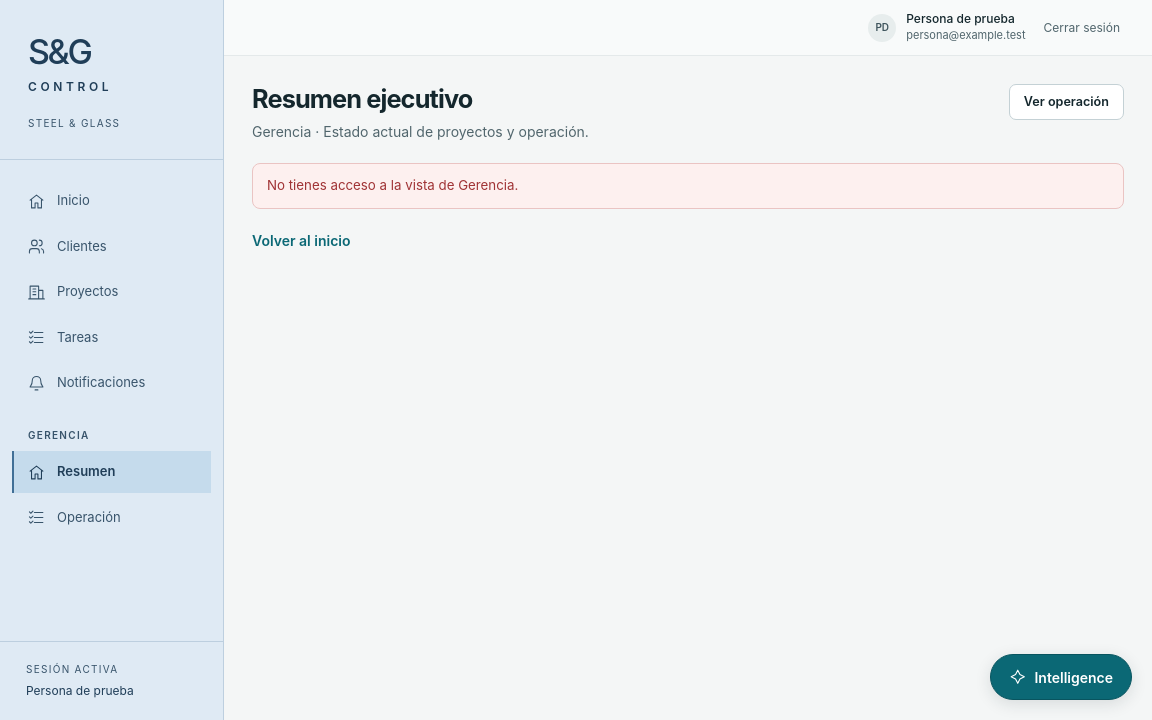
Management and Intelligence integration › keeps the real session and the other experience after management HTTP 403
Check: the message shows "No tienes acceso", box [267,177,518,193]
Click the button with aria-label "Abrir SnG Intelligence" at (1061, 677), box [990,654,1132,700]
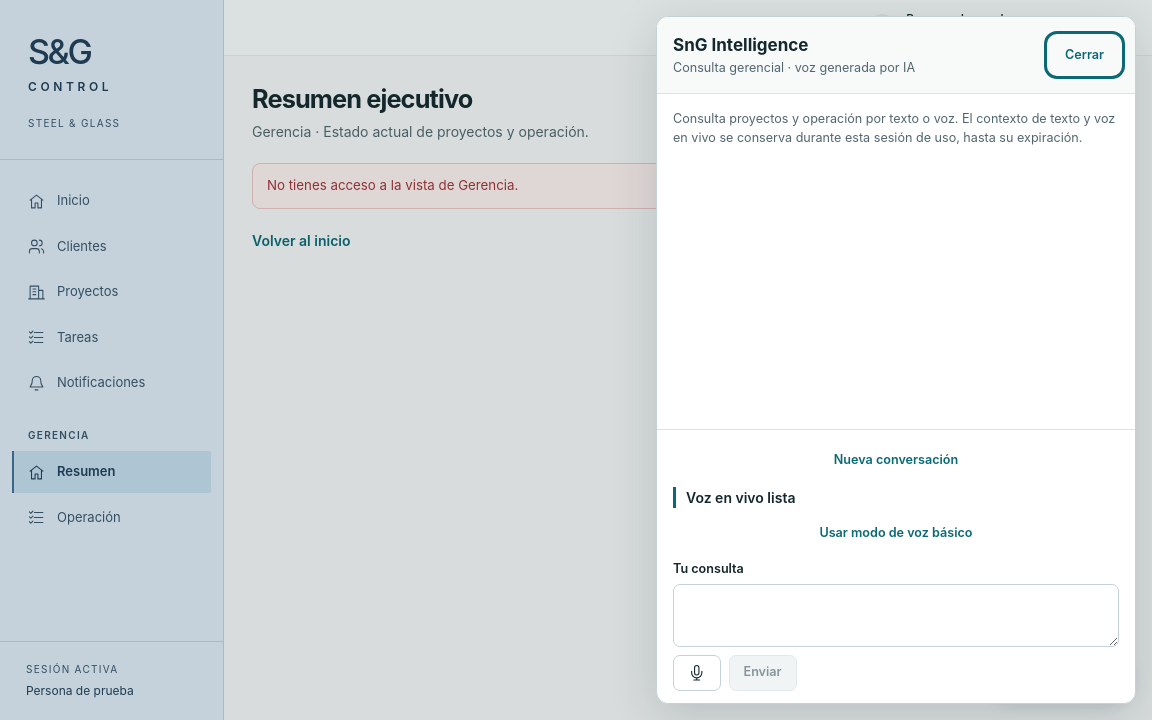
Type "Consulta" into the text box labelled "Tu consulta" at (896, 616), box [673,584,1119,647]
Then press Enter
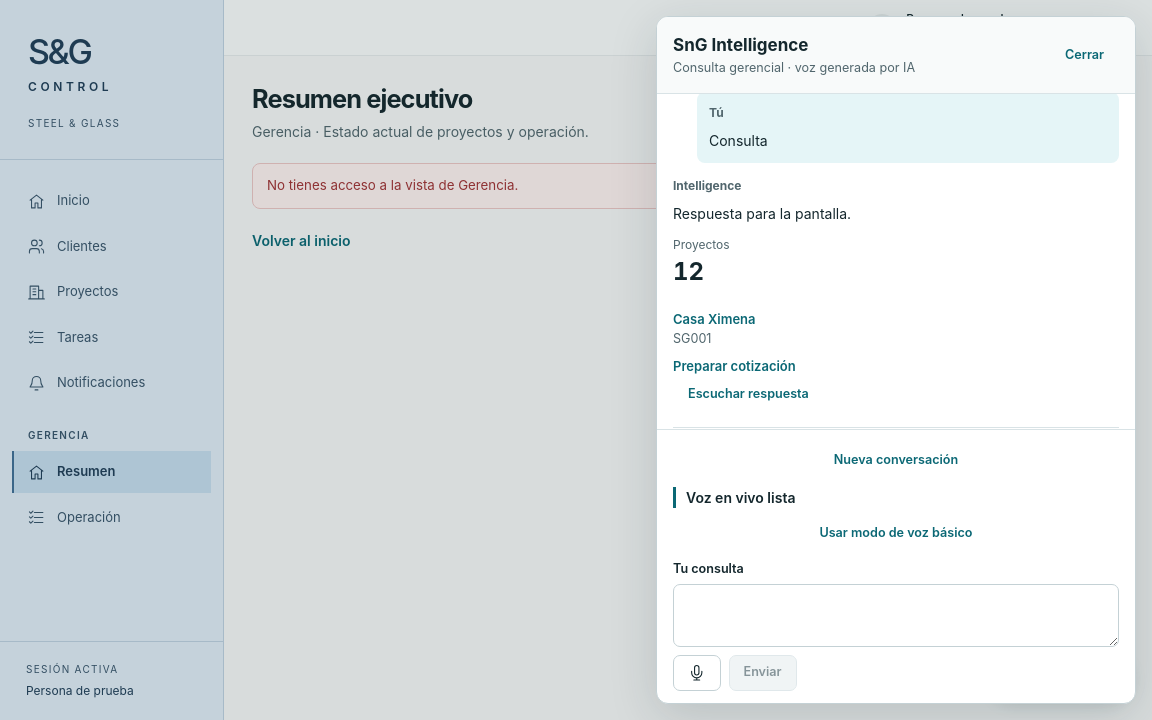
Check: the link "Resumen" is shown, box [12,451,211,493]
Check: the text "Respuesta para la pantalla." is shown, box [673,205,851,222]
